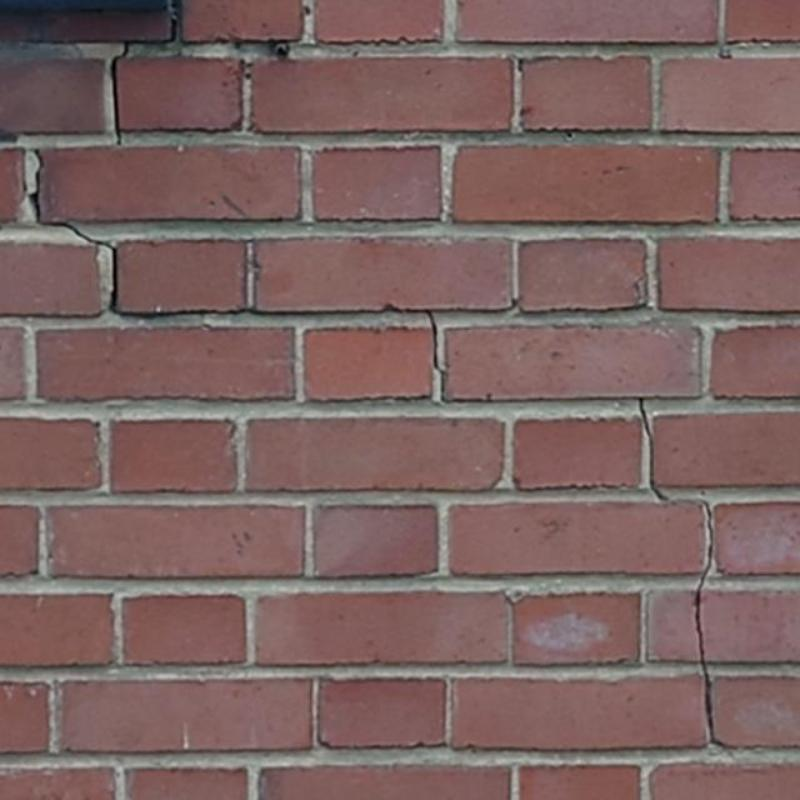crack: (694, 501, 727, 748), (43, 224, 119, 315), (638, 398, 670, 501), (424, 311, 446, 402), (109, 42, 128, 145), (29, 149, 44, 224)
